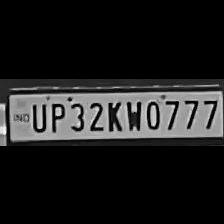0: (142, 96, 162, 128)
2: (86, 97, 104, 131)
3: (66, 97, 86, 131)
7: (179, 96, 199, 128), (198, 96, 218, 128), (162, 96, 180, 128)
K: (103, 97, 123, 131)
P: (46, 97, 66, 130)
U: (27, 97, 47, 130)
W: (122, 94, 142, 130)
